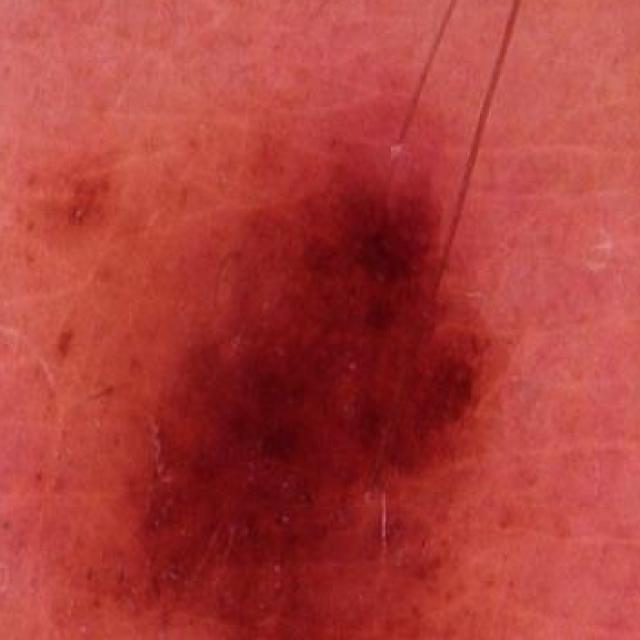NV: (0, 114, 567, 640)
